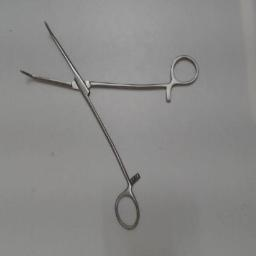Lahey Forceps: (16, 12, 204, 238)
